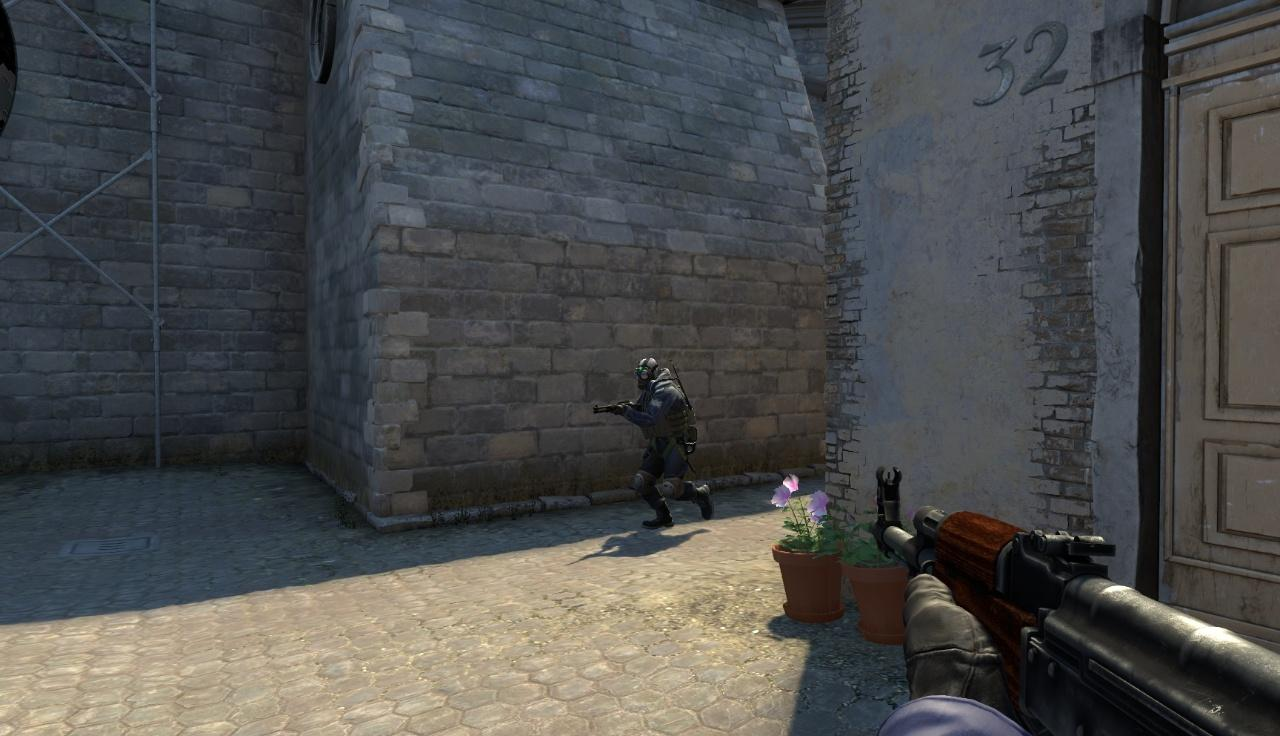ct: (627, 358, 704, 528)
cthead: (634, 359, 660, 389)
rifle: (875, 472, 1280, 736)
